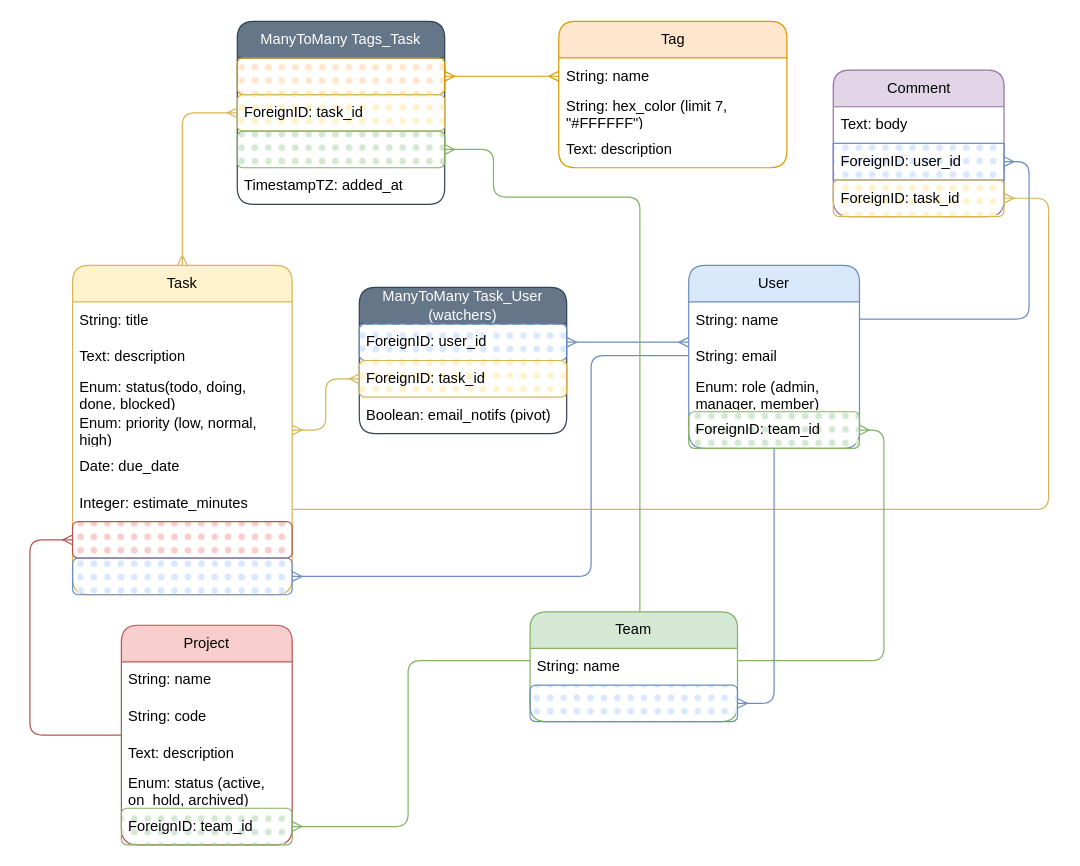
This 1080x866 diagram has some shape labels left out. Here are the shapes that lost their labels. From the top down, the centre of each, then its label:
pixel 340 76: ForeignID: tag_id
pixel 340 149: ForeignID: added_by
pixel 181 539: ForeignID: project_id
pixel 181 576: ForeignID: assignee_id (user)
pixel 633 703: ForeignID: owner_id (user)
